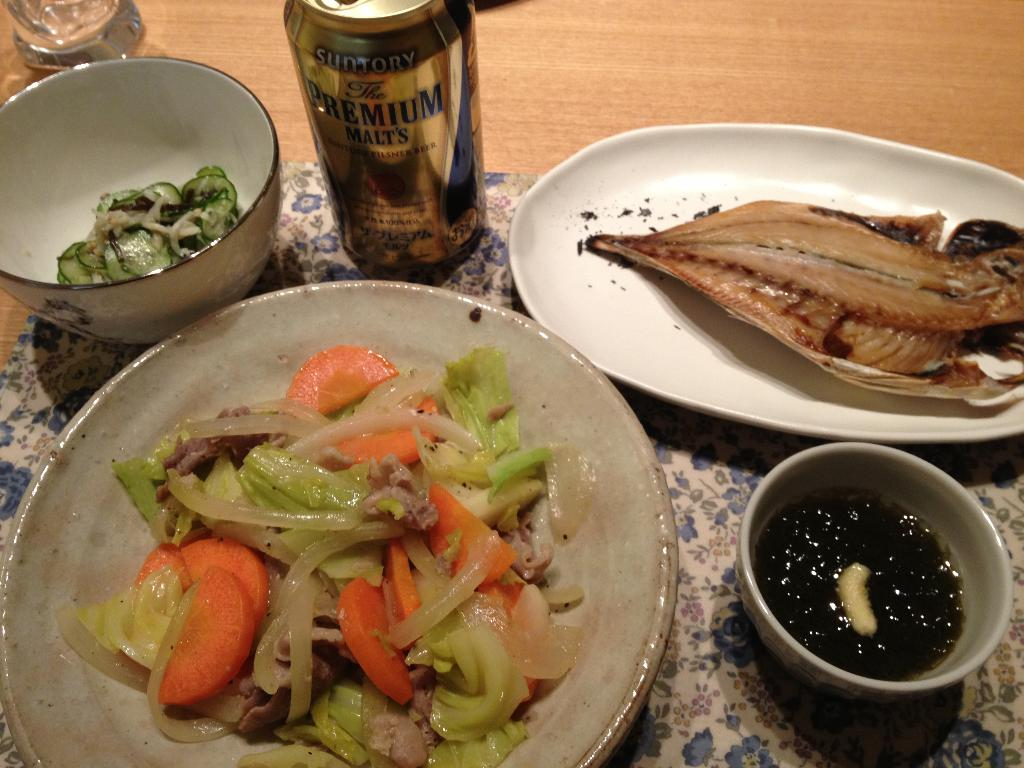salad: (54, 331, 595, 767)
